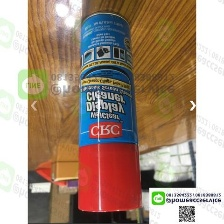aerosol_cans: (74, 8, 145, 216)
